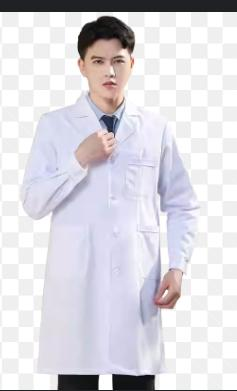lab_coat: (19, 90, 201, 377)
